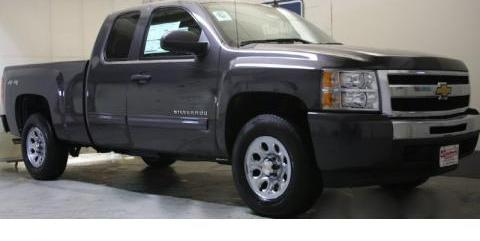front_view: (303, 52, 478, 166)
headlight: (319, 64, 389, 116)
side_glass: (103, 15, 220, 64)
